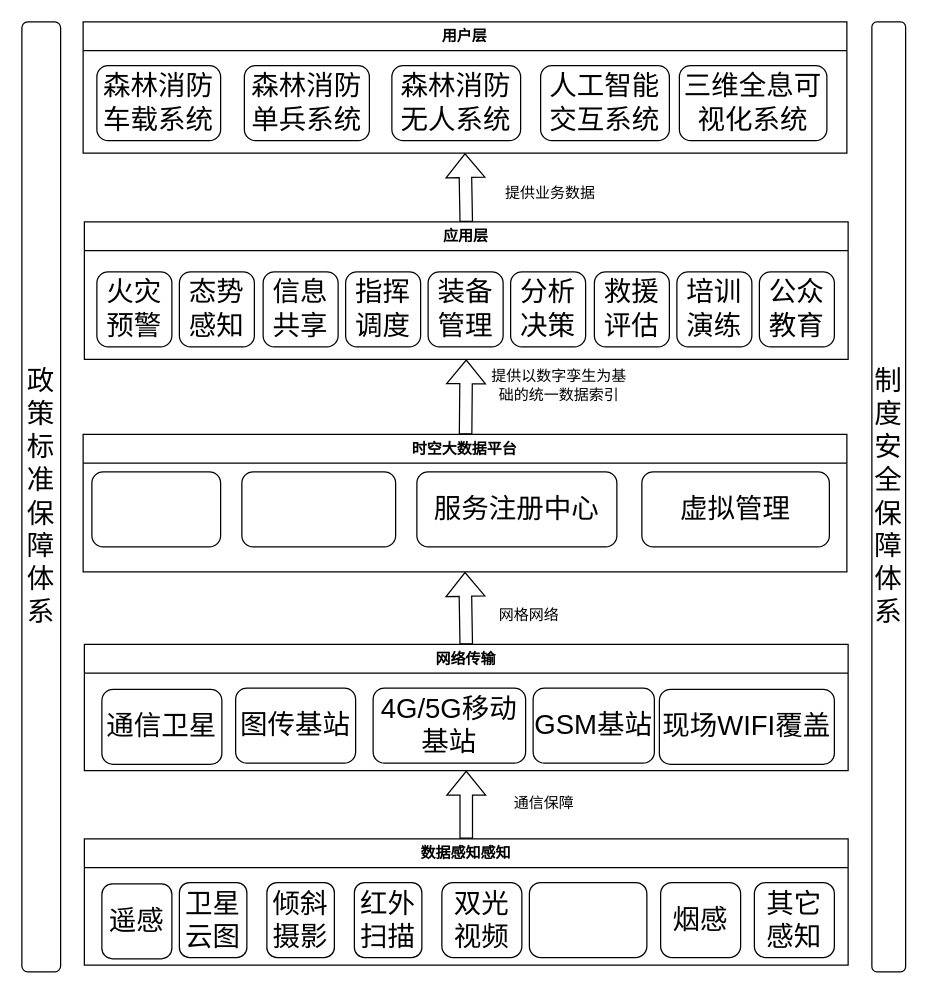
Image size: 928x994. Some labels were removed from this diagram. The shapes that lost their labels are listed below. From the top down, each one's centre as x and y in pixels, then its label:
At pixel 156 509: "资源池".
At pixel 318 509: "服务链".
At pixel 587 919: "地面温湿度感知".
